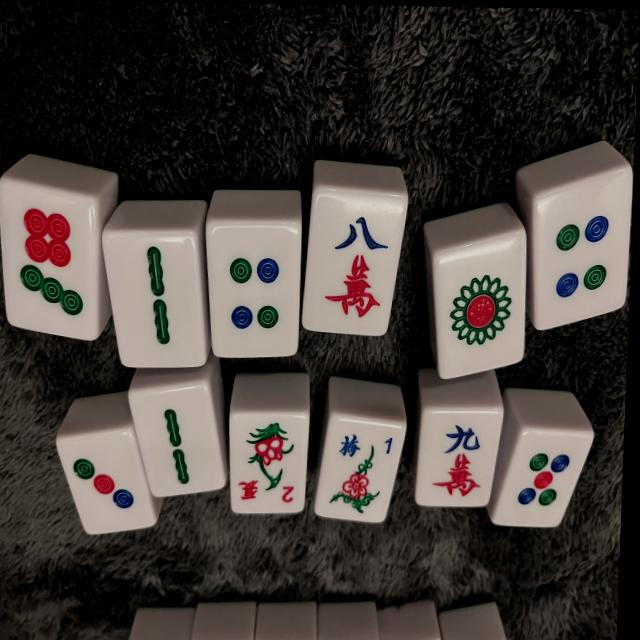f1: (313, 417, 405, 527)
ff2: (227, 413, 311, 519)
m8: (302, 193, 407, 338)
m9: (414, 409, 502, 510)
s2: (108, 231, 218, 370), (127, 381, 231, 498)
t1: (430, 231, 531, 384)
t3: (57, 426, 162, 536)
t4: (529, 166, 631, 336), (199, 222, 302, 361)
t5: (492, 426, 596, 529)
t7: (0, 180, 107, 344)
